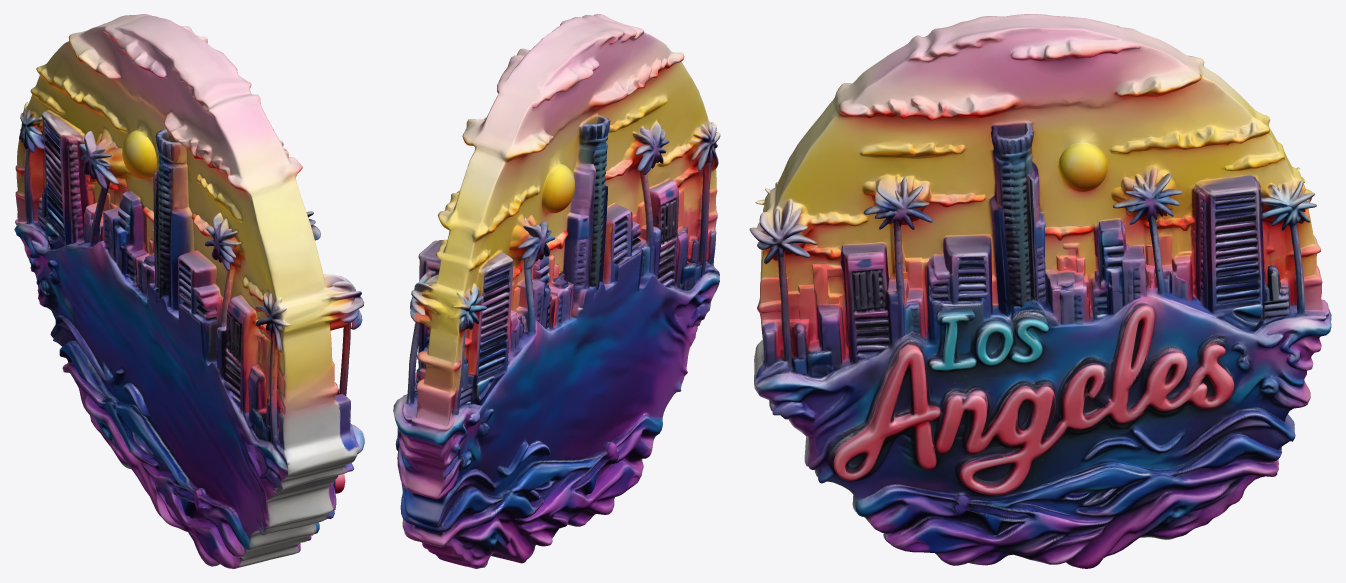
The model's file is FridgeMagnetLa.fbx.
The picture shows the model from 3 angles, left to right: view 1: azimuth 30°, elevation 25°; view 2: azimuth 150°, elevation 25°; view 3: azimuth 270°, elevation 25°; orthographic projection. The views are drawn at different scales.
Parts seen in each view (by area): view 1: tripo_node_abb8ccd1; view 2: tripo_node_abb8ccd1; view 3: tripo_node_abb8ccd1.
Boxes of the visible parts, x1,y1,x2,y2 form: tripo_node_abb8ccd1: (14, 14, 364, 568); tripo_node_abb8ccd1: (393, 14, 720, 568); tripo_node_abb8ccd1: (749, 14, 1331, 568).
Bounding box in the file's own units: 23.79 × 98.07 × 97.68.
1 material, 1 textured.
